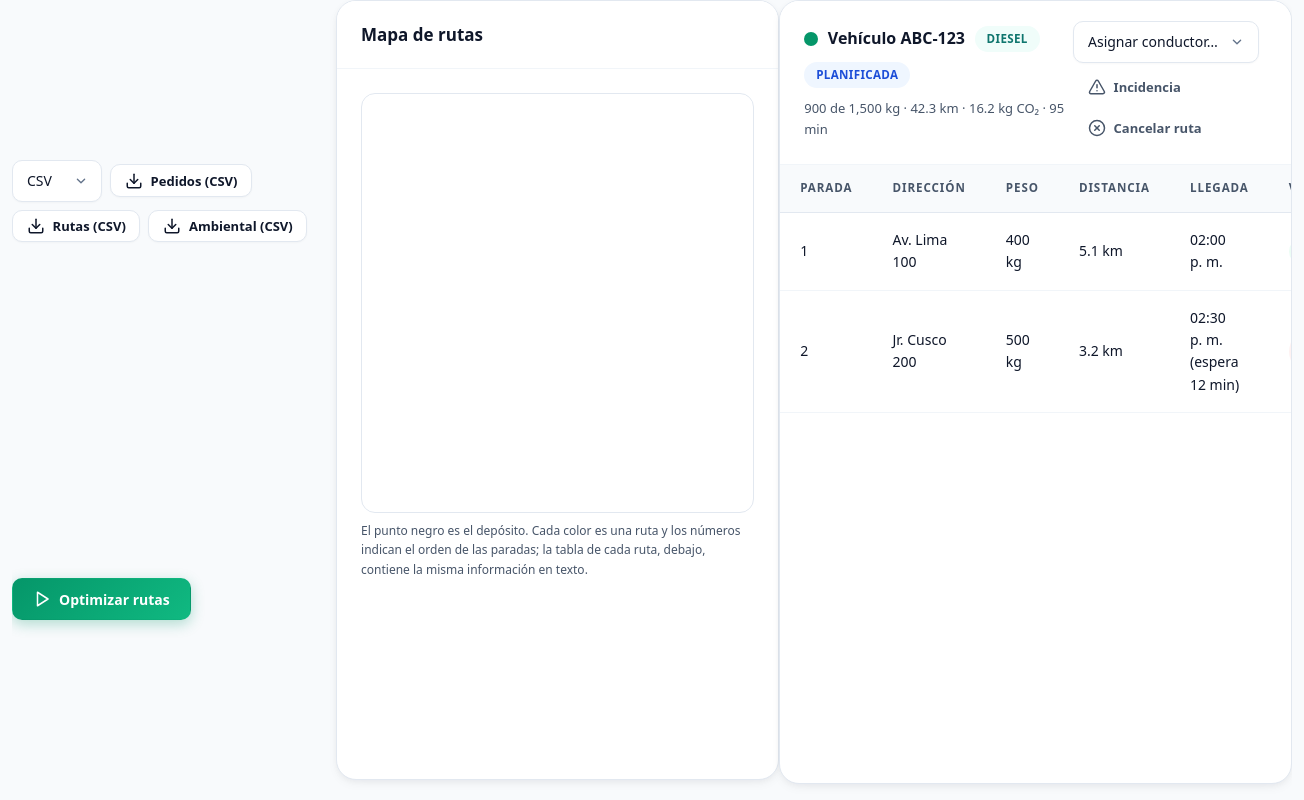
RutasPage › cancelar una ruta pide confirmación y recarga el plan
Click the button with aria-label "Cancelar la ruta del vehículo ABC-123". click: (1145, 128)
box: left=1073, top=112, right=1216, bottom=144
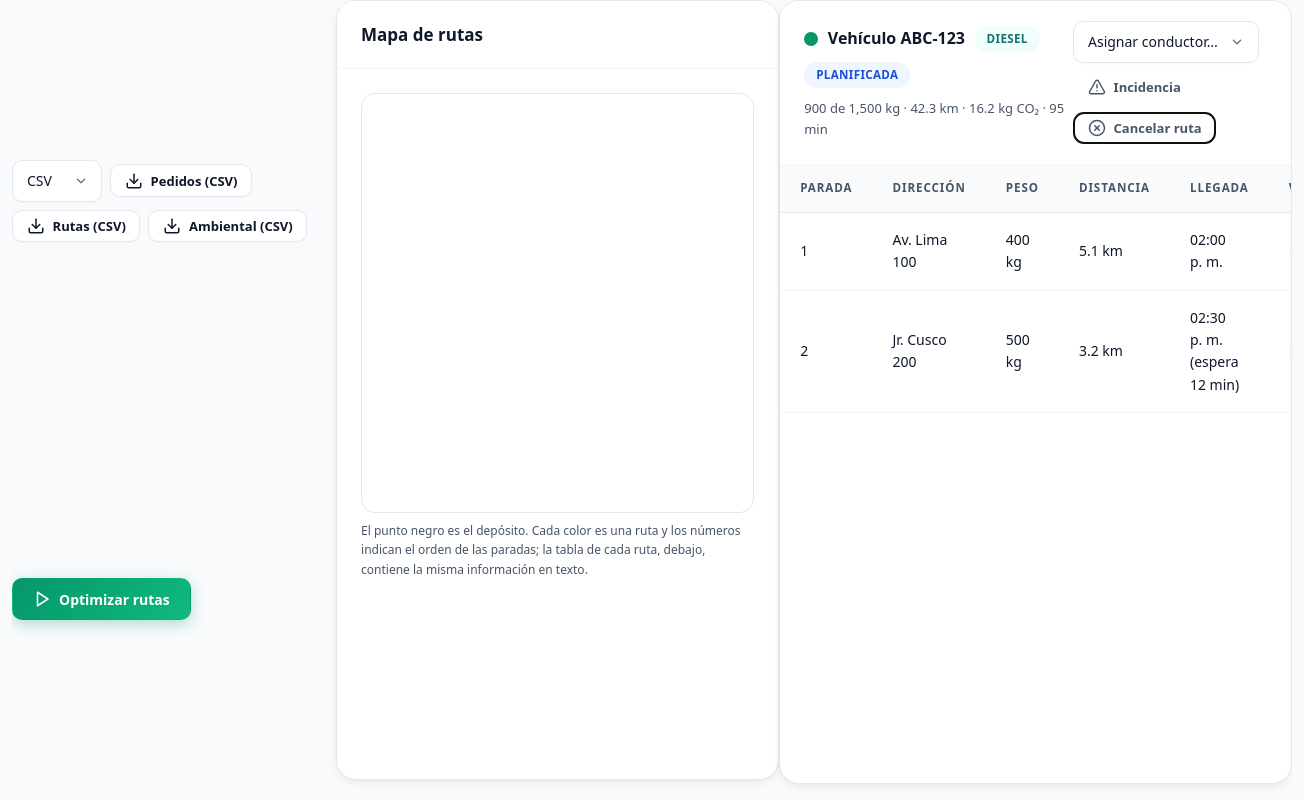
Click the button with aria-label "Cancelar la ruta del vehículo ABC-123". click: (1145, 128)
box: left=1073, top=112, right=1216, bottom=144
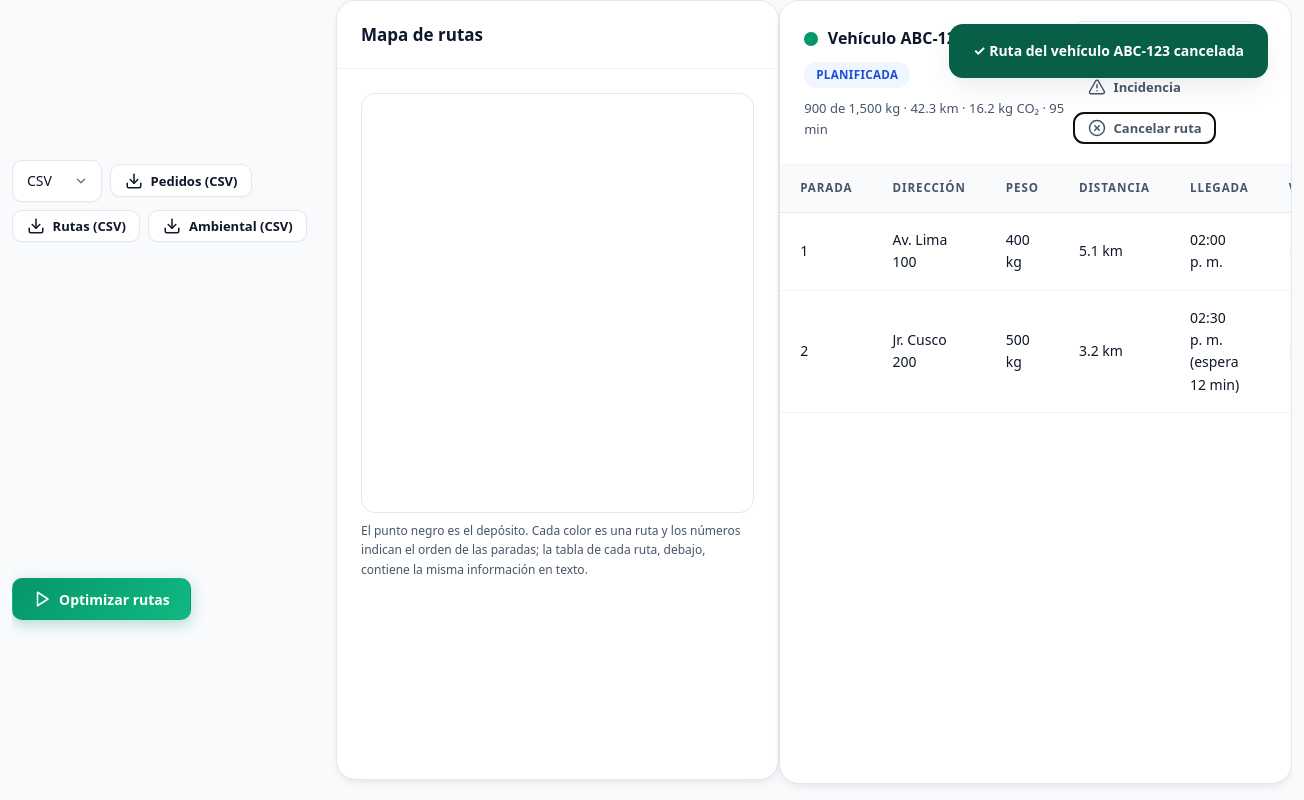
Result: the text "✓ Ruta del vehículo ABC-123 cancelada" is shown at left=949, top=24, right=1268, bottom=78
